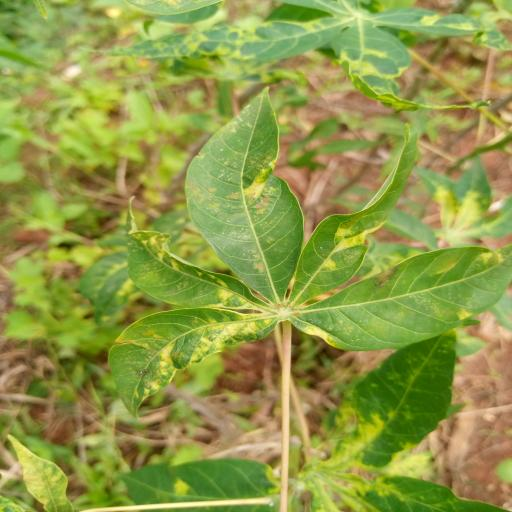Cassava_Mosaic: (105, 81, 512, 417), (112, 0, 486, 111)
